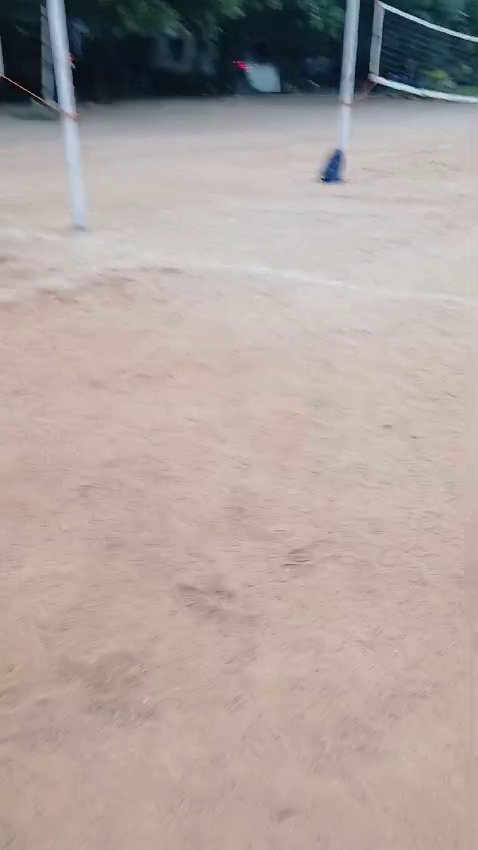bag: (321, 138, 342, 190)
